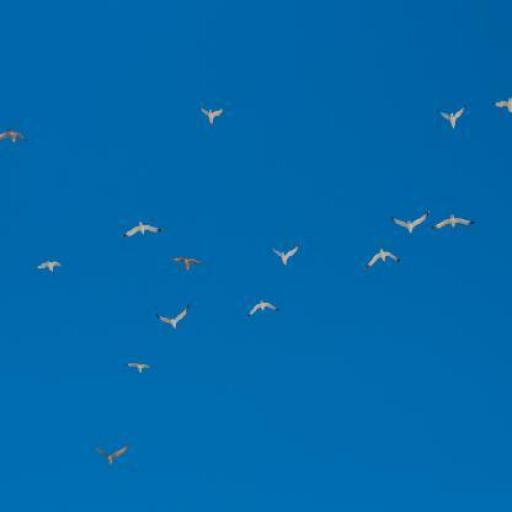bird: (393, 211, 428, 234), (156, 306, 188, 330), (93, 446, 127, 466), (433, 214, 474, 229), (439, 106, 465, 129), (366, 248, 399, 266), (123, 221, 161, 236), (270, 246, 298, 266), (248, 300, 279, 315), (199, 108, 224, 125), (491, 98, 512, 114), (172, 257, 198, 269), (36, 261, 61, 273), (0, 131, 23, 144), (126, 362, 150, 373)
